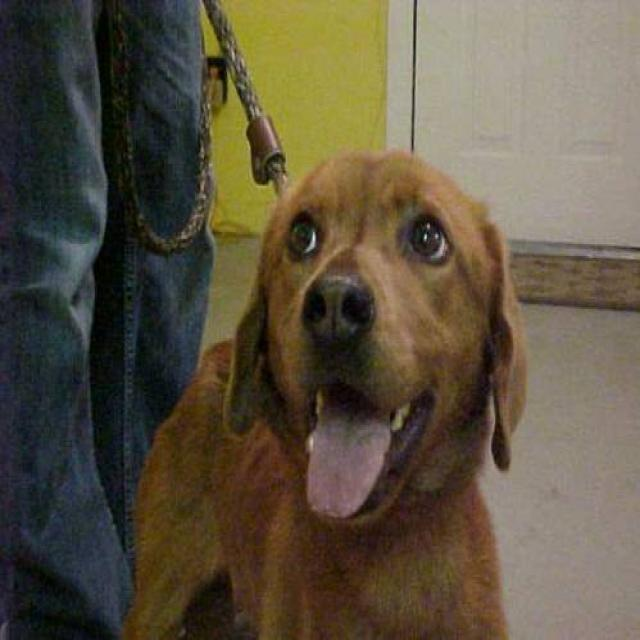dog: (120, 145, 528, 638)
